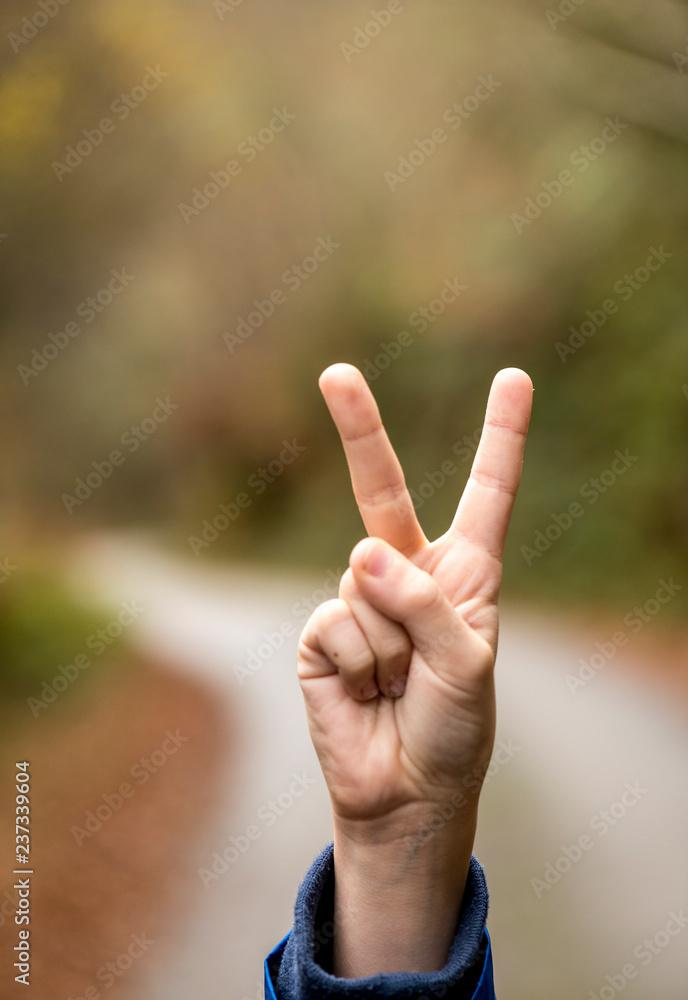peace_sign: (284, 344, 542, 839)
